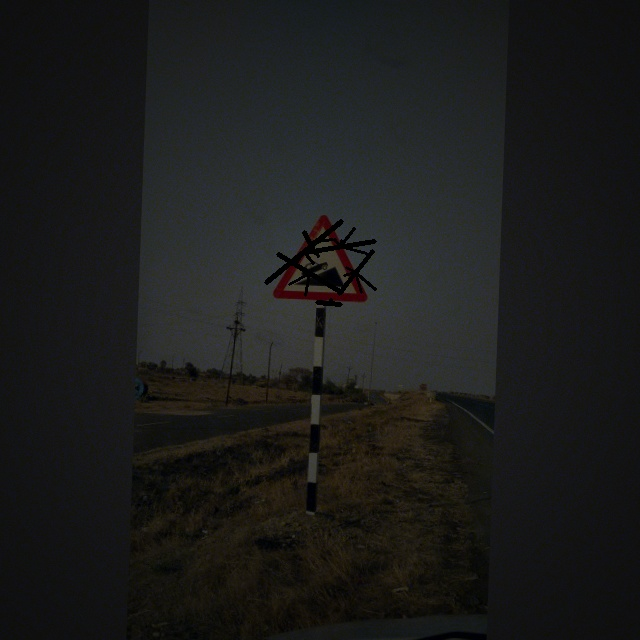Steep_Ascent: (264, 211, 376, 306)
